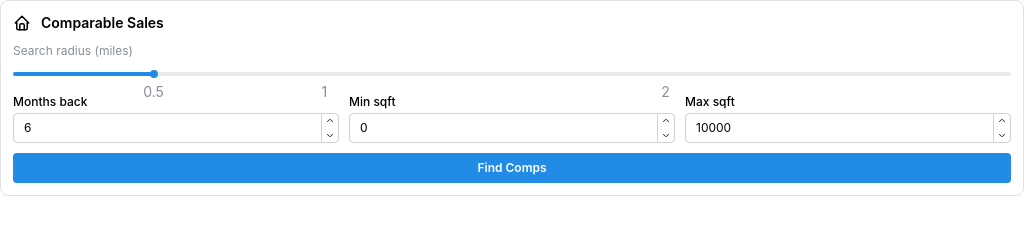
Test: CompsPanel › says a search found no sales, naming the radius and period it used
The image size is (1024, 240).
What coordinates should you click on to do the following:
click the button "Find Comps"
I would click on:
 (512, 168)
Its box is 13,153 -> 1011,183.
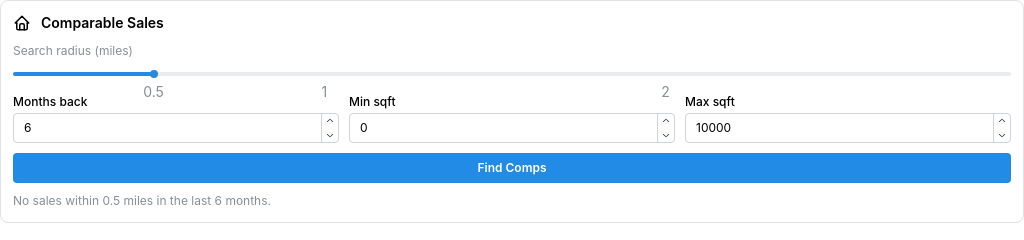
Expected: the text "No sales within 0.5 miles in the last 6 months." is shown, 13,193 -> 271,208
